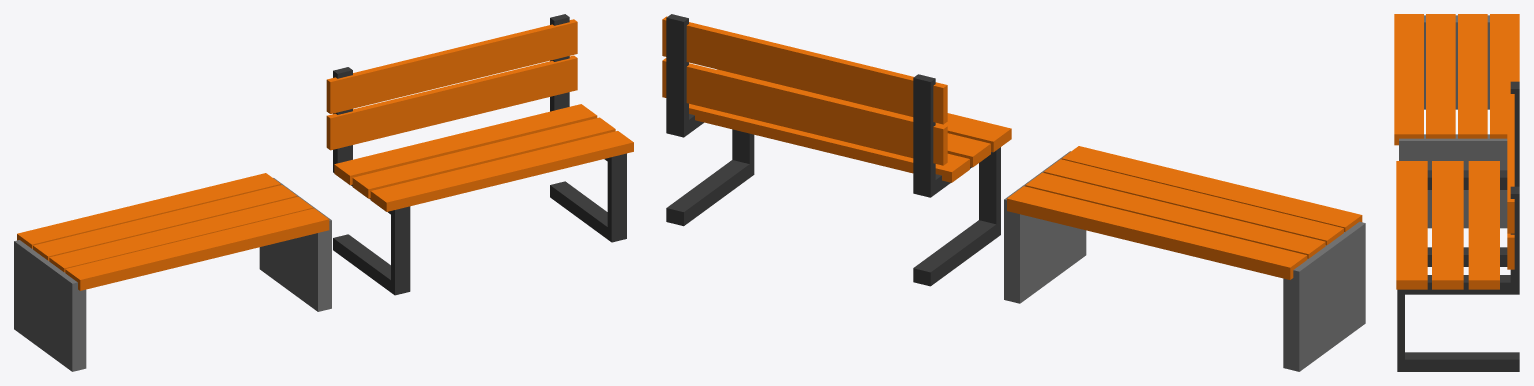
The model's file is bench.glb.
3 views of the same model, side by side, from view 1: azimuth 30°, elevation 25°; view 2: azimuth 150°, elevation 25°; view 3: azimuth 270°, elevation 25° (orthographic). The views are drawn at different scales.
Parts seen in each view (by area): view 1: bench_1, simple_bench_0; view 2: bench_1, simple_bench_0; view 3: bench_1, simple_bench_0.
Part boxes in pixels (bbox=[...]): bench_1: bbox=[326, 14, 633, 295]; simple_bench_0: bbox=[14, 173, 331, 371]; bench_1: bbox=[662, 14, 1011, 286]; simple_bench_0: bbox=[1004, 146, 1365, 371]; bench_1: bbox=[1396, 81, 1519, 371]; simple_bench_0: bbox=[1394, 14, 1519, 228].
Bounding box in the file's own units: 91.19 × 27.95 × 17.85.
Materials: 2 (2 with a texture image).
